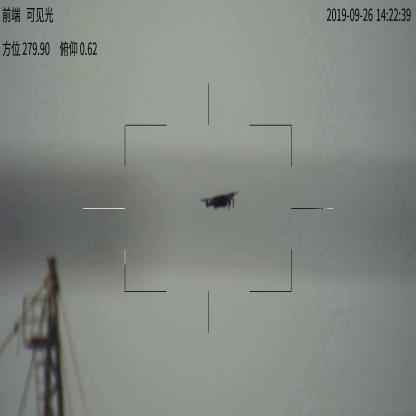uav: (196, 189, 238, 213)
